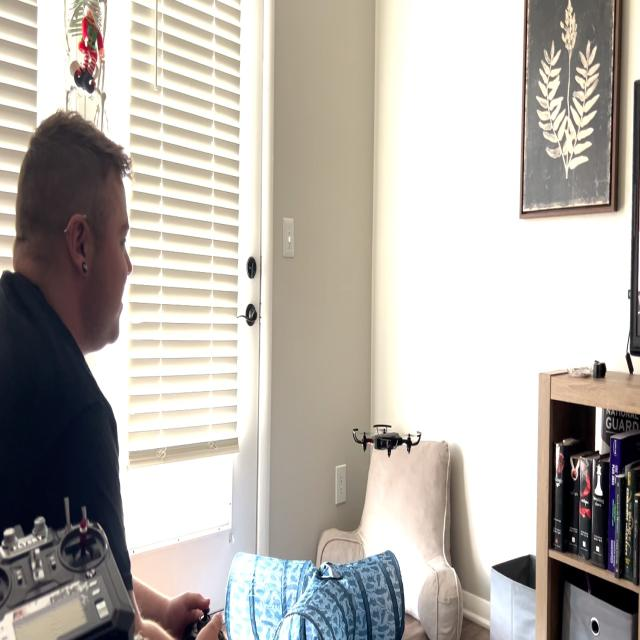drone: (346, 411, 426, 462)
